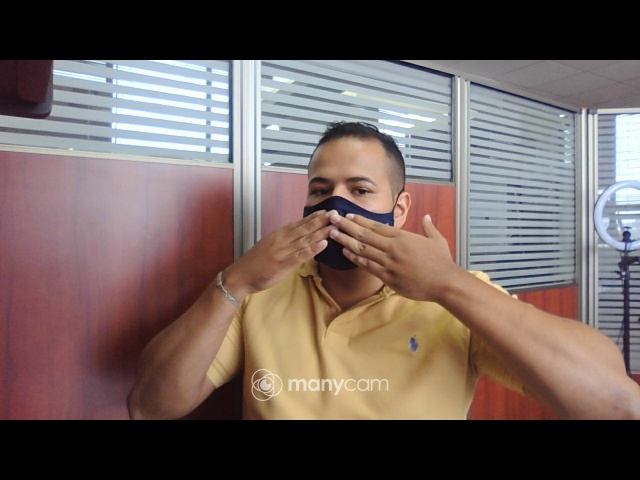Thanks: (232, 204, 463, 311)
